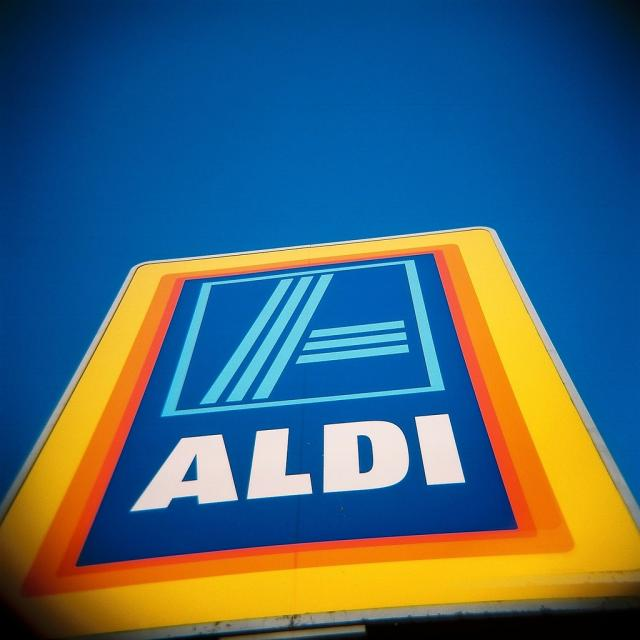aldi: (2, 230, 640, 640)
